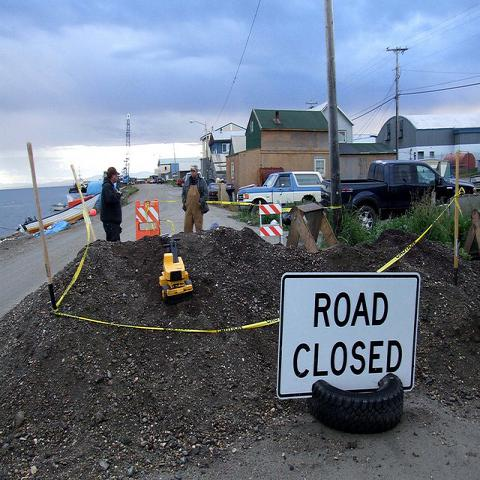car: (185, 172, 203, 185), (209, 183, 219, 201), (226, 184, 235, 202), (470, 175, 479, 192), (177, 177, 186, 187), (157, 178, 162, 185)
truck: (322, 158, 476, 232), (237, 171, 324, 217)
